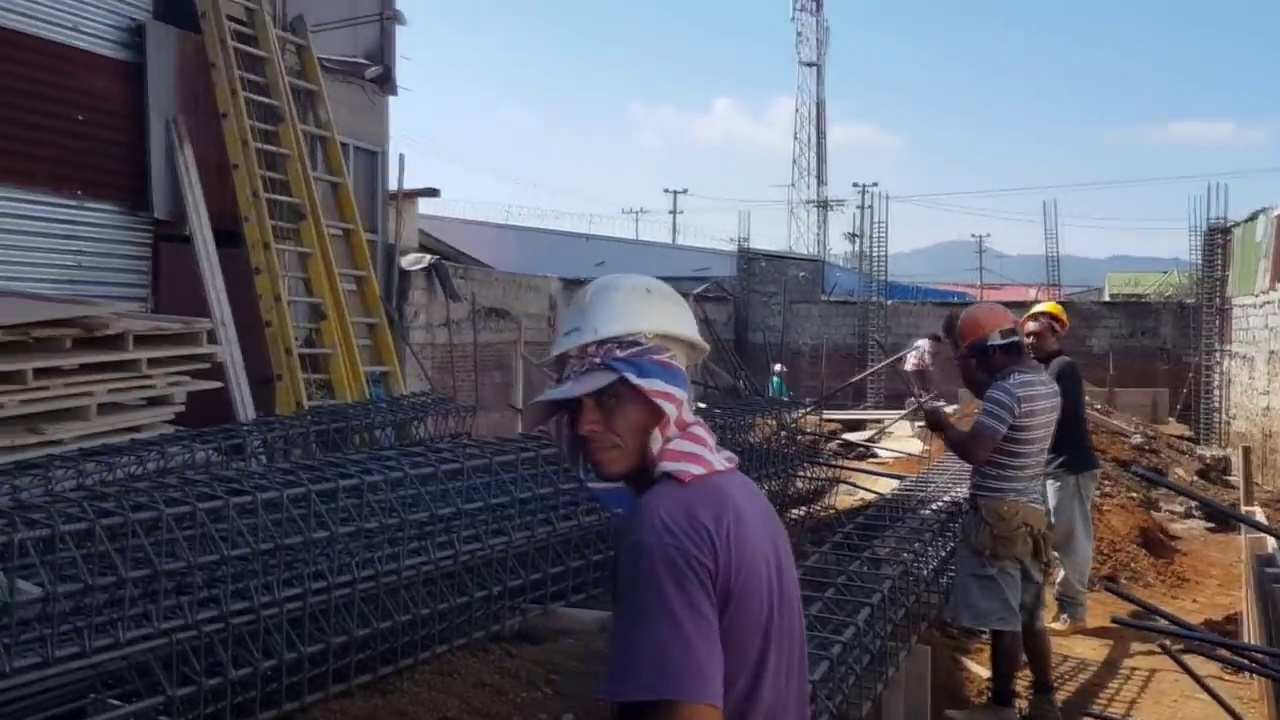helmet: (960, 306, 1020, 357), (1021, 298, 1072, 333), (773, 362, 787, 374)
helmet-off: (926, 332, 942, 350)
helmet-on: (529, 264, 715, 496), (953, 304, 1028, 379), (1024, 298, 1075, 364), (772, 363, 788, 379)
person: (526, 256, 814, 719), (923, 305, 1060, 719), (1024, 299, 1105, 639), (904, 333, 943, 403), (769, 362, 789, 409)
